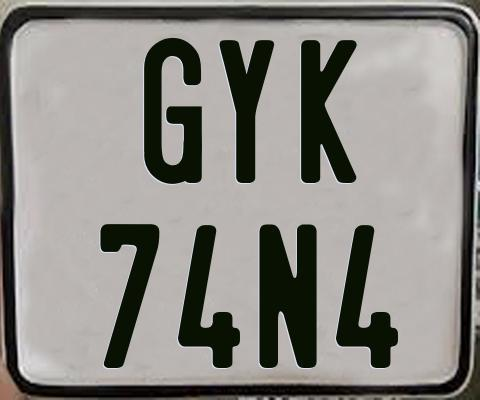4: (335, 224, 400, 369), (177, 224, 239, 369)
7: (100, 223, 166, 370)
G: (141, 37, 199, 186)
K: (299, 39, 360, 185)
N: (257, 222, 316, 367)
Y: (218, 37, 279, 180)
